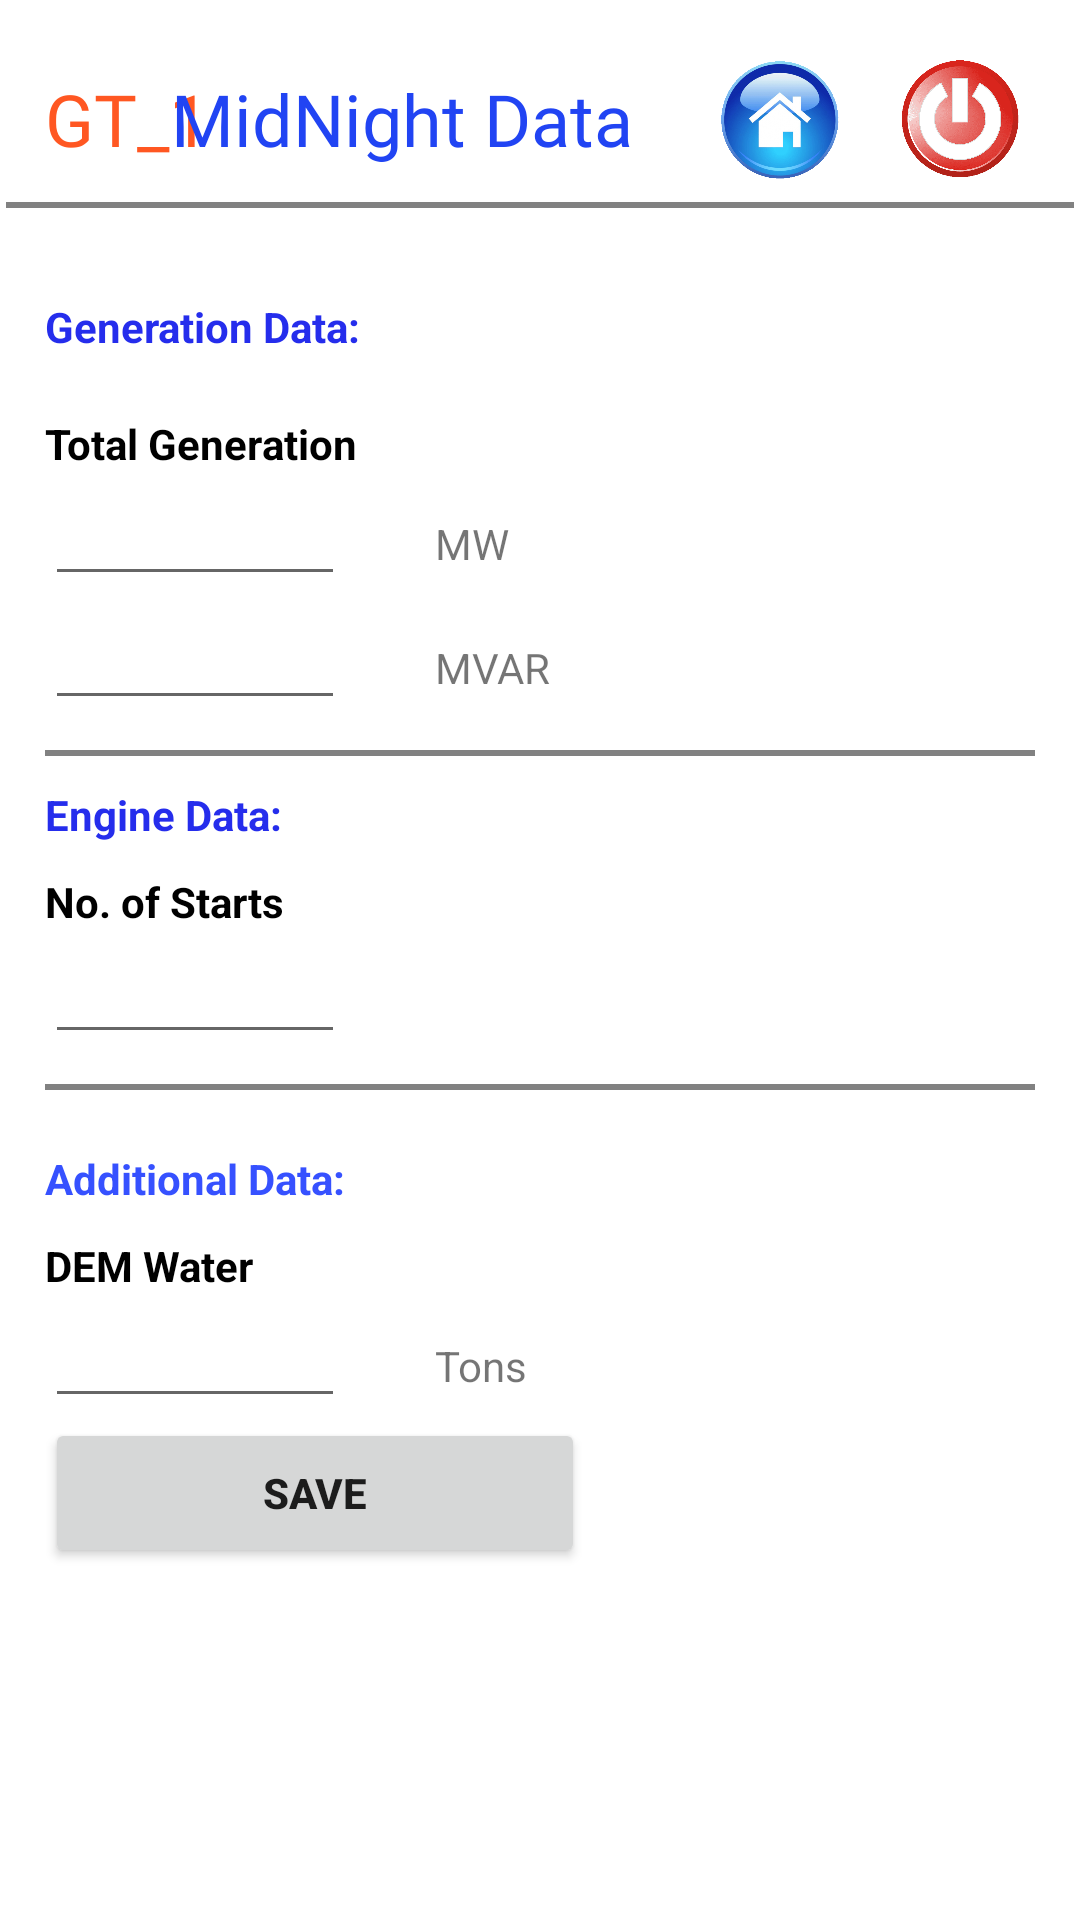

Named icons in this screenshot (1080*1920) and their bounding boxes, bbox(x1, y1, x2, y2):
home: bbox(721, 61, 839, 179)
sign out: bbox(902, 60, 1019, 177)
